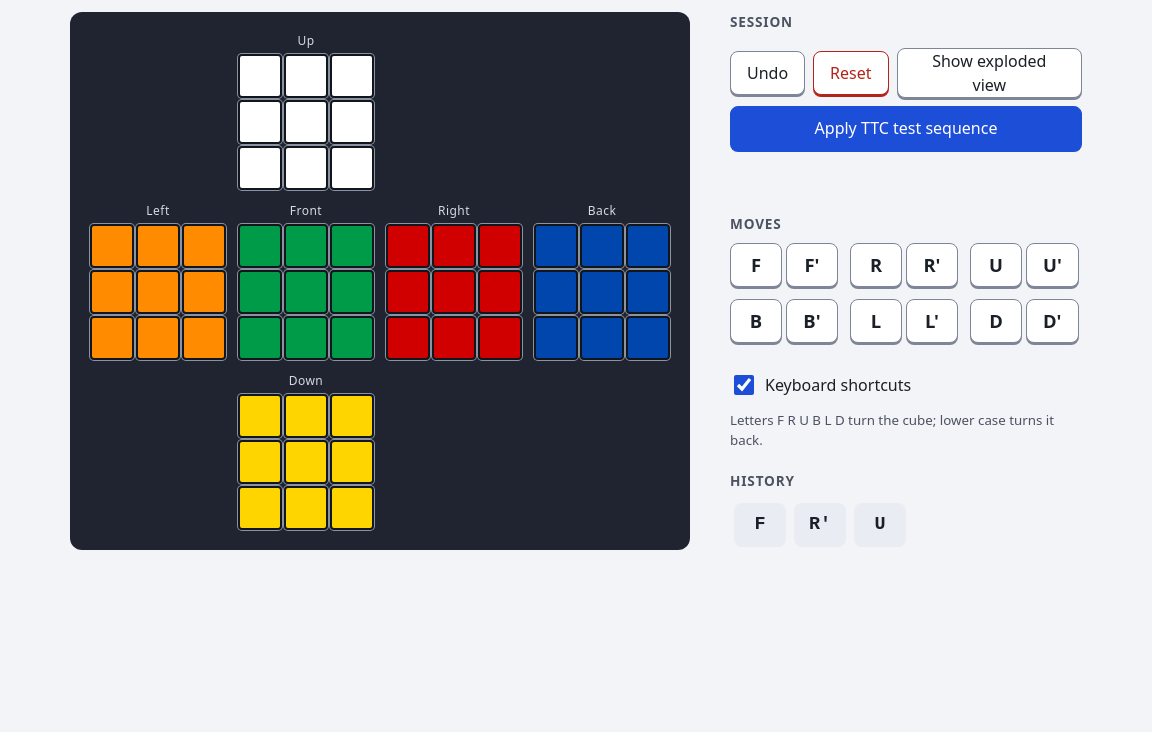
Scenario: CubePage › history, undo and reset › Undo failures › reloads the session on a 409 and says the cube was changed by someone else
Click the button "Undo": (768, 73) [730,51,805,95]
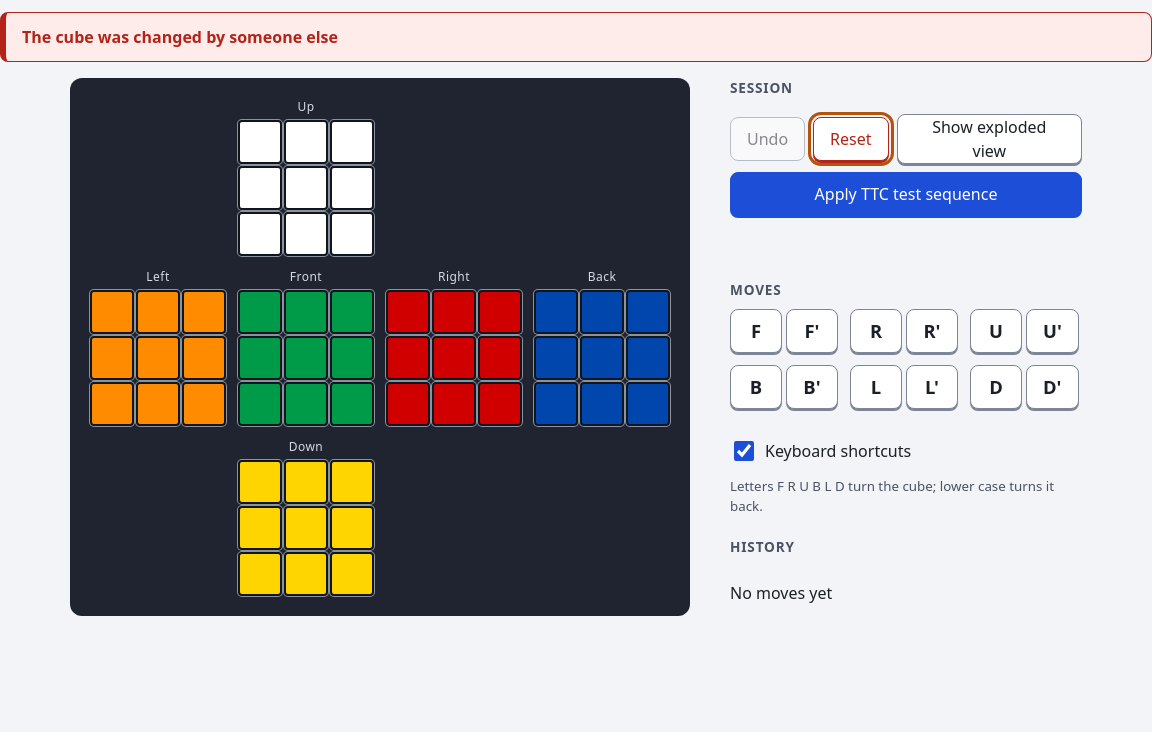
Result: the message "The cube was changed by someone else" is shown at [0,12,1151,62]
Result: the text "No moves yet" is shown at [730,582,832,604]
